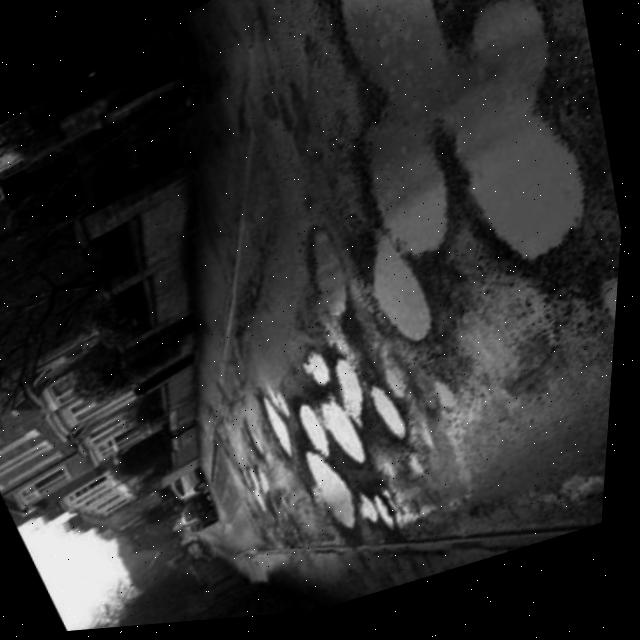Pothole: (228, 0, 640, 384), (333, 222, 448, 381), (263, 202, 381, 353), (290, 441, 378, 558), (311, 392, 383, 488), (360, 380, 432, 467), (327, 347, 392, 441), (247, 387, 312, 475), (576, 271, 624, 369), (288, 398, 344, 474), (285, 341, 345, 409), (368, 487, 415, 549)
